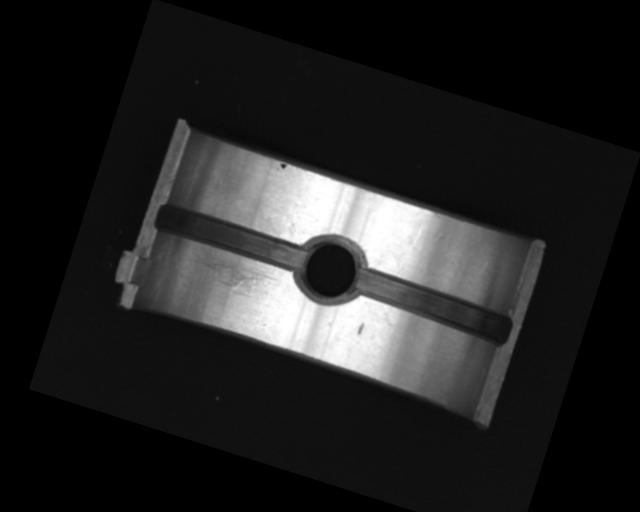blot: (277, 161, 287, 172)
bruise: (355, 320, 365, 336)
gap: (348, 265, 515, 348), (153, 200, 309, 276)
hole: (288, 226, 371, 309)
nick: (395, 226, 423, 279)
scratch: (182, 247, 282, 305)
